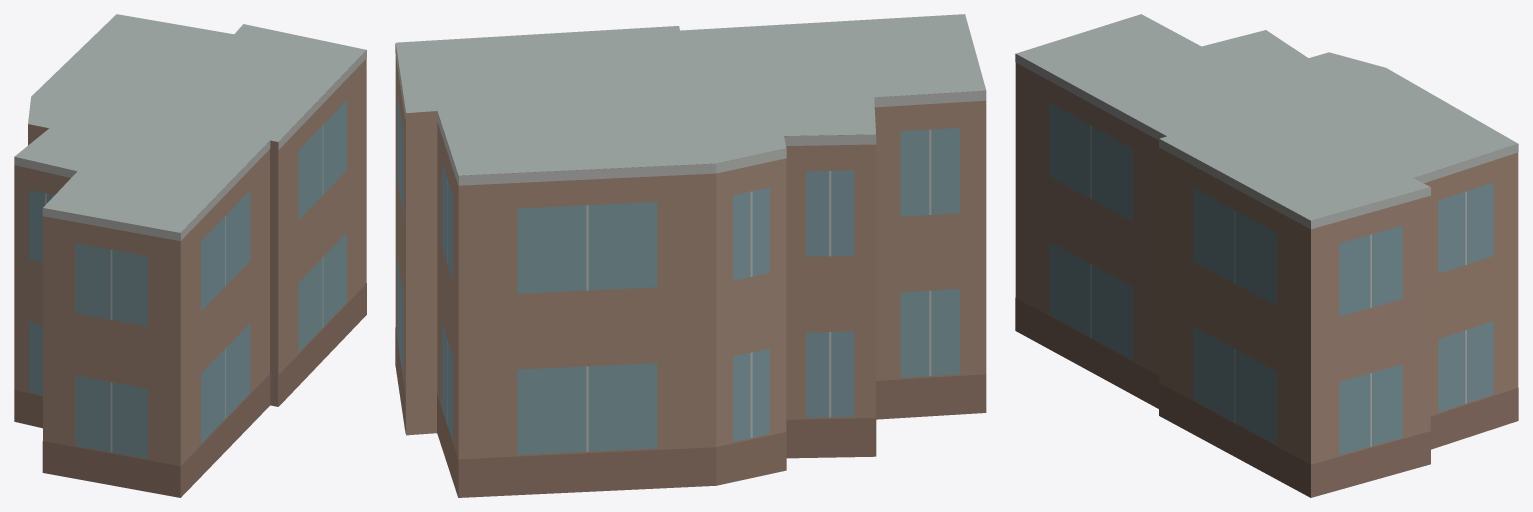
The model's file is survey-upis-32666541.glb.
3 renders of one model, left to right at view 1: azimuth 30°, elevation 25°; view 2: azimuth 150°, elevation 25°; view 3: azimuth 270°, elevation 25°, orthographic. The views are drawn at different scales.
Visible parts, largest first — view 1: survey-upis-32666541.tmp; view 2: survey-upis-32666541.tmp; view 3: survey-upis-32666541.tmp.
Part boxes in pixels (<box>): survey-upis-32666541.tmp: <box>14,14,366,497</box>; survey-upis-32666541.tmp: <box>395,14,986,497</box>; survey-upis-32666541.tmp: <box>1015,14,1518,497</box>.
Size of the model in its own units: 12.48 by 7.8 by 12.83.
